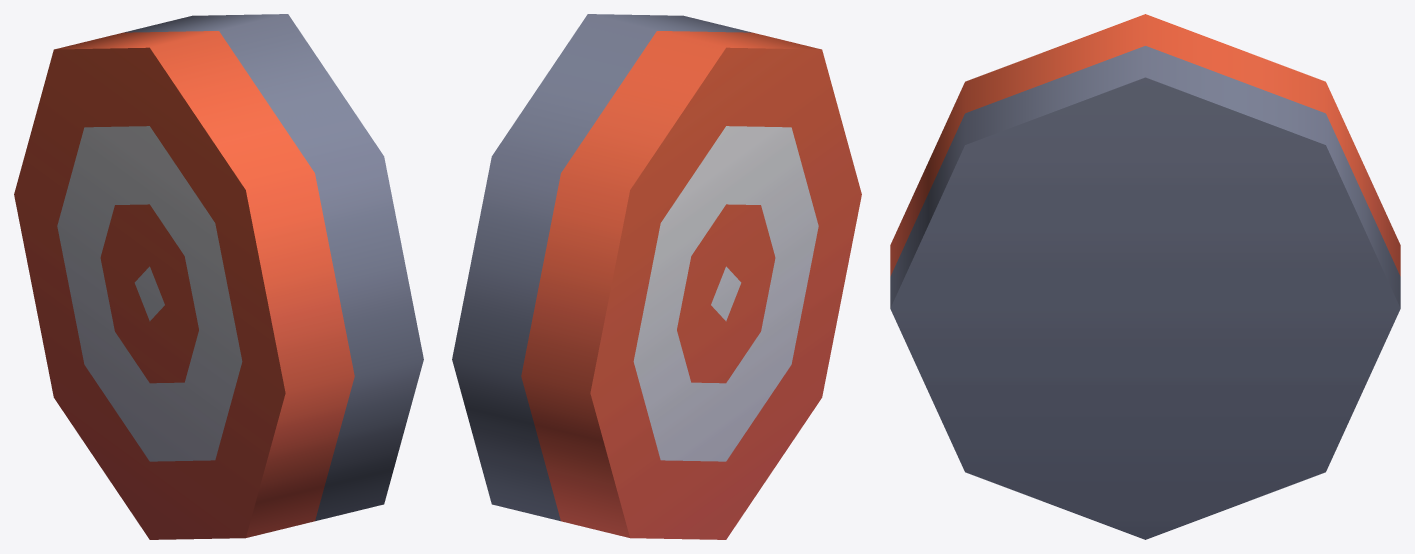
The model's file is target-large.glb.
3 views of the same model, side by side, from view 1: azimuth 30°, elevation 25°; view 2: azimuth 150°, elevation 25°; view 3: azimuth 270°, elevation 25° (orthographic). The views are drawn at different scales.
Visible parts, largest first — view 1: target-large; view 2: target-large; view 3: target-large.
Part boxes in pixels (box(x1,y1,x2,y2)): target-large: box(14, 14, 423, 539); target-large: box(452, 14, 861, 539); target-large: box(890, 14, 1400, 539).
Bounding box in the file's own units: 0.1 × 0.34 × 0.34.
1 material, 1 textured.
